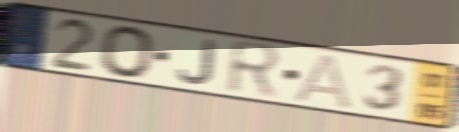2: (48, 16, 97, 76)
3: (361, 64, 407, 113)
A: (292, 52, 355, 112)
J: (176, 38, 218, 87)
O: (98, 24, 158, 81)
R: (224, 37, 286, 102)
